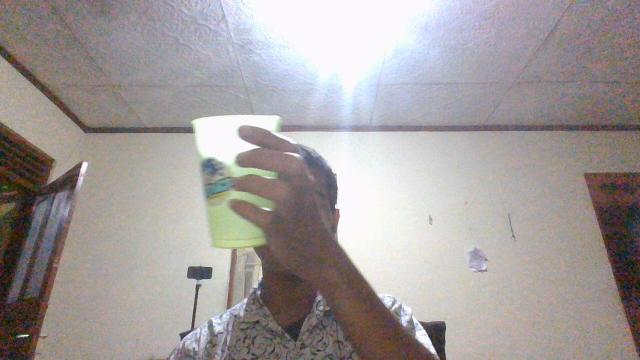botol-hijau: (190, 112, 288, 255)
